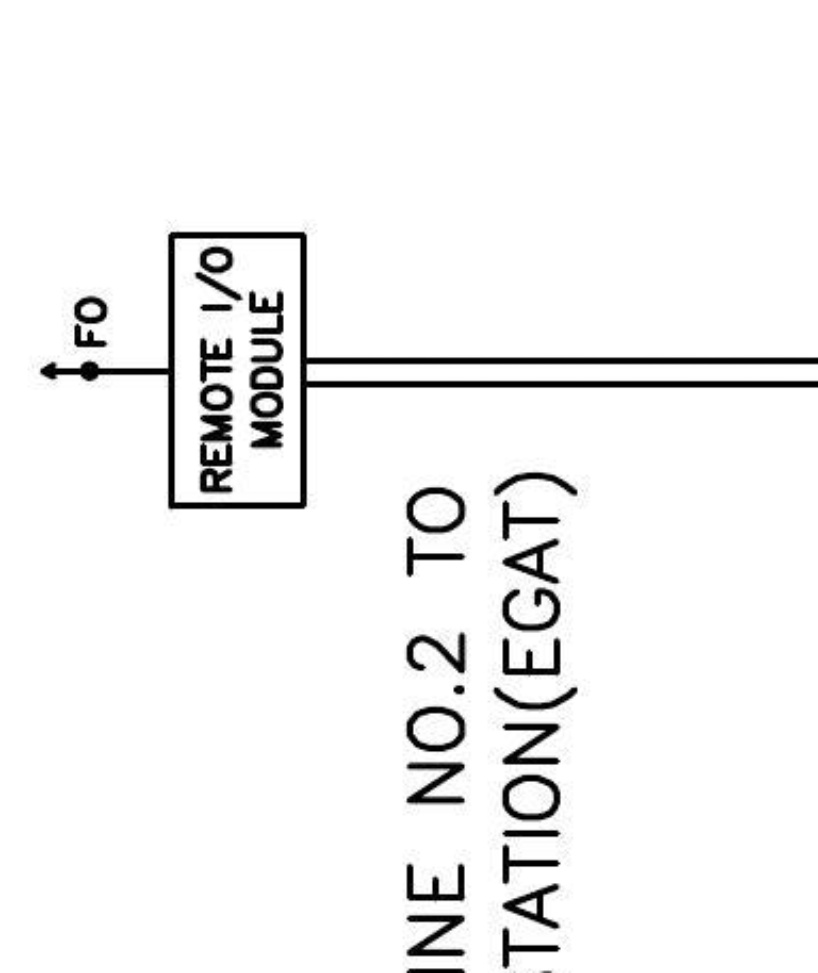remote_io_module: (167, 231, 307, 510)
